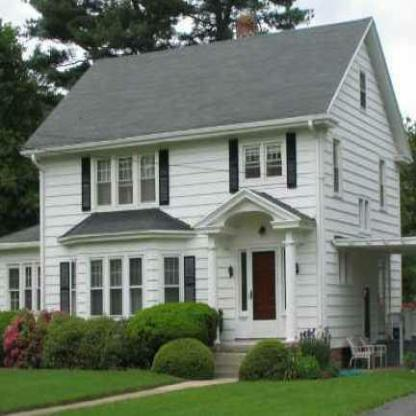other: (240, 228, 286, 333), (3, 306, 52, 372)
